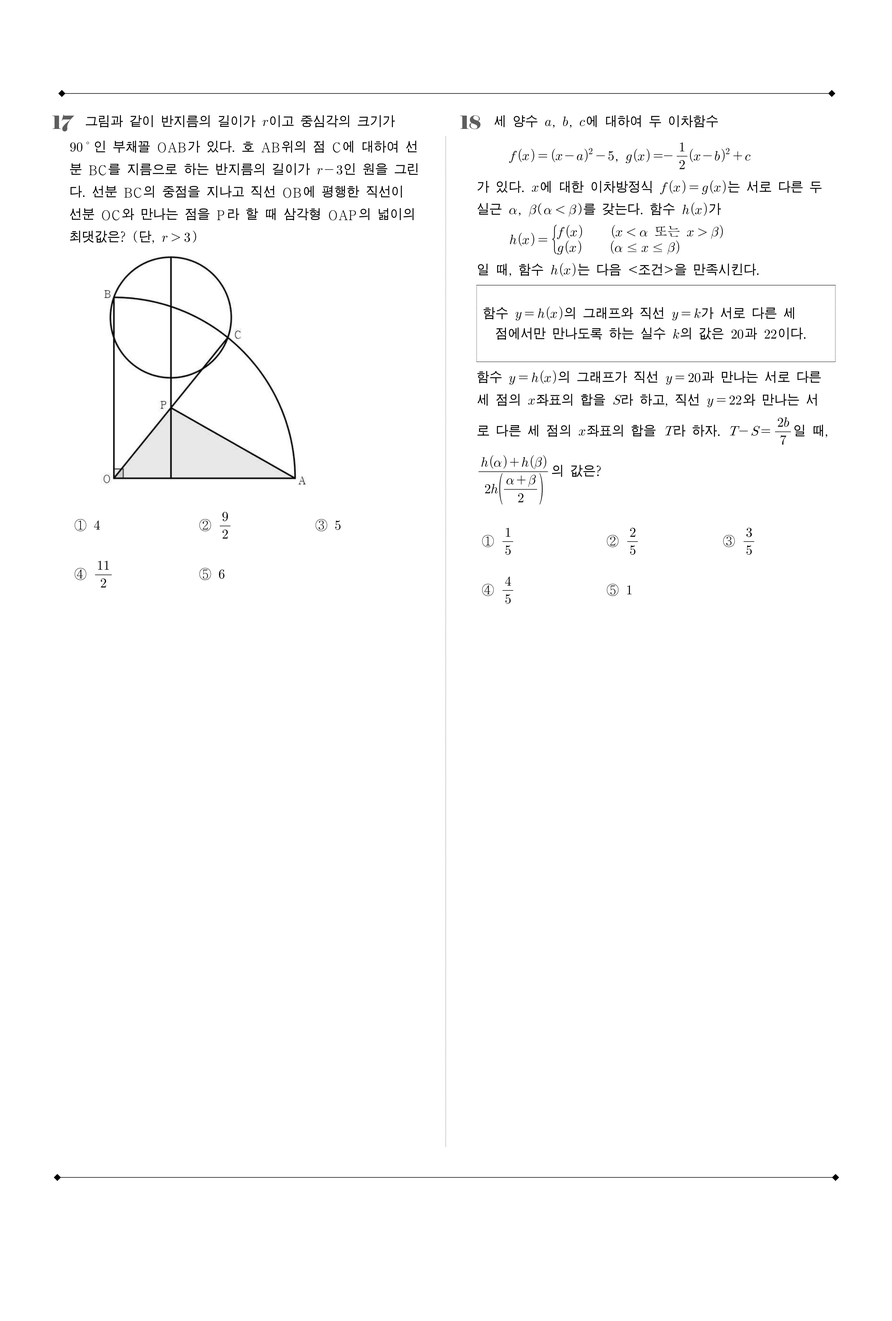problem: (452, 100, 872, 653)
